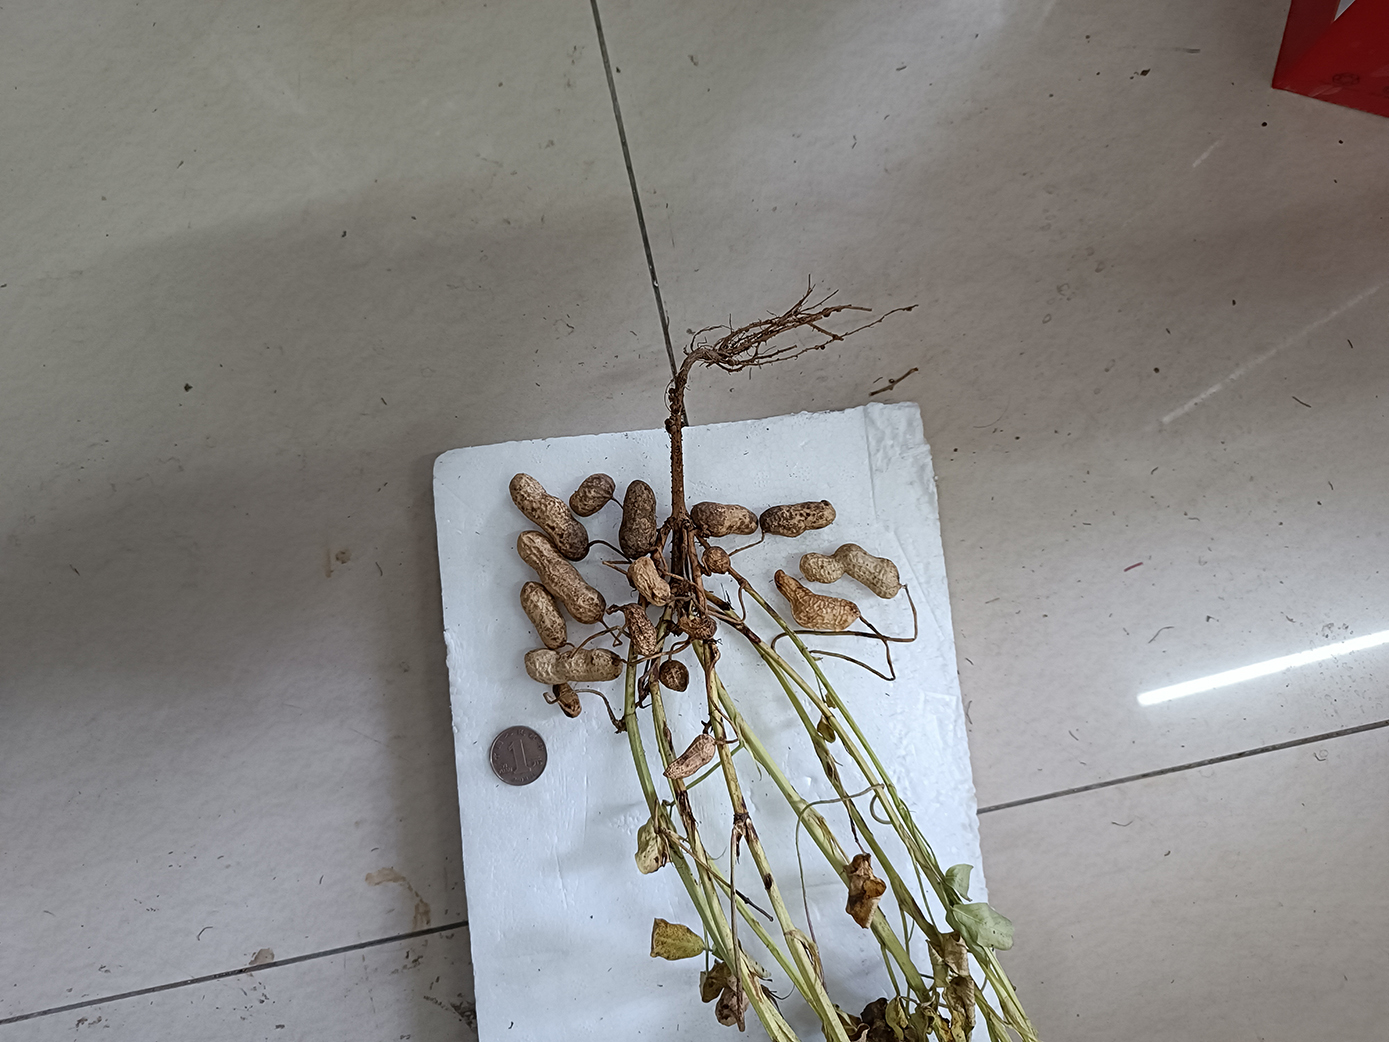h: (517, 531, 607, 626), (509, 472, 589, 561), (800, 543, 900, 600), (775, 568, 859, 630), (519, 581, 567, 650), (526, 649, 622, 683), (760, 500, 835, 537), (691, 501, 759, 537), (662, 734, 716, 779), (569, 472, 615, 520), (629, 557, 673, 607), (623, 603, 665, 655), (678, 613, 718, 639), (553, 681, 581, 717), (702, 547, 732, 574)
l: (618, 479, 662, 557), (659, 661, 690, 693)
